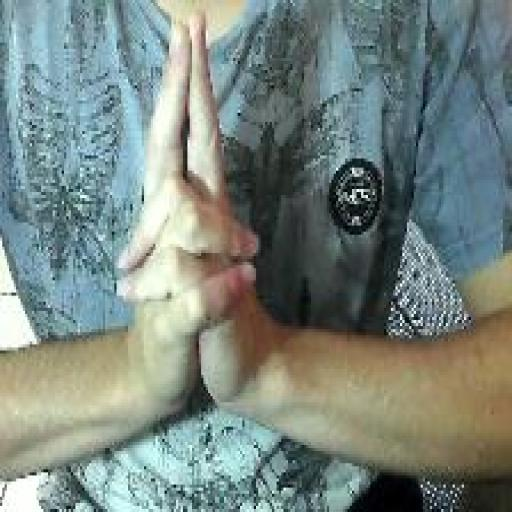Tora -tiger-: (114, 9, 263, 421)
